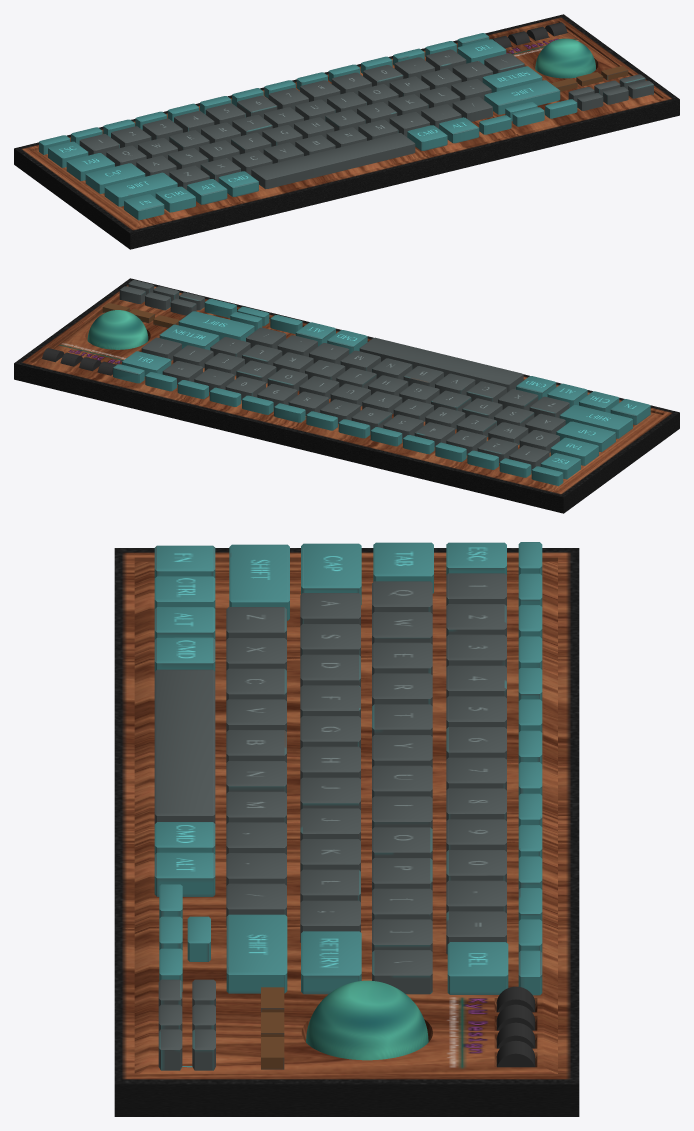
File: keyboard.gltf
3 renders of one model, top to bottom at view 1: azimuth 30°, elevation 25°; view 2: azimuth 150°, elevation 25°; view 3: azimuth 270°, elevation 25°, orthographic. The views are drawn at different scales.
Parts seen in each view (by area): view 1: Object_3, Object_4, Object_7, Object_6, Object_2, Object_5, Object_8; view 2: Object_3, Object_4, Object_7, Object_6, Object_2, Object_5, Object_8; view 3: Object_3, Object_6, Object_4, Object_7, Object_2, Object_5, Object_8.
Part boxes in pixels (left/top/right/bottom): Object_3: left=79, top=49, right=653, bottom=189; Object_4: left=39, top=33, right=577, bottom=220; Object_7: left=14, top=14, right=679, bottom=249; Object_6: left=22, top=17, right=671, bottom=230; Object_2: left=535, top=38, right=595, bottom=78; Object_5: left=491, top=22, right=567, bottom=48; Object_8: left=551, top=66, right=628, bottom=91; Object_3: left=119, top=280, right=569, bottom=470; Object_4: left=113, top=298, right=650, bottom=486; Object_7: left=14, top=278, right=679, bottom=513; Object_6: left=22, top=285, right=671, bottom=494; Object_2: left=87, top=310, right=148, bottom=349; Object_5: left=42, top=348, right=116, bottom=375; Object_8: left=102, top=302, right=180, bottom=327; Object_3: left=154, top=573, right=506, bottom=1070; Object_6: left=124, top=552, right=568, bottom=1079; Object_4: left=154, top=542, right=542, bottom=995; Object_7: left=114, top=548, right=579, bottom=1116; Object_2: left=306, top=980, right=428, bottom=1060; Object_5: left=496, top=986, right=535, bottom=1067; Object_8: left=261, top=987, right=284, bottom=1069.
Bounding box in the file's own units: 6.38 × 0.4477 × 2.34.
Materials: 7 (7 with a texture image).
